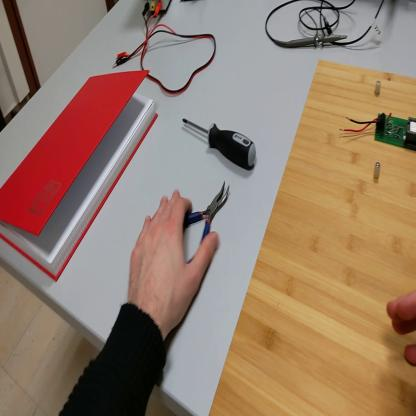hand: (127, 190, 217, 338), (387, 288, 416, 369)
high voltage board: (339, 100, 416, 151)
oscilloscope probe tip: (290, 35, 351, 51)
pliers: (186, 179, 232, 264)
power supply: (143, 2, 170, 20)
register: (3, 55, 160, 283)
screwdriver-: (179, 114, 258, 172)
working area: (211, 60, 416, 415)
